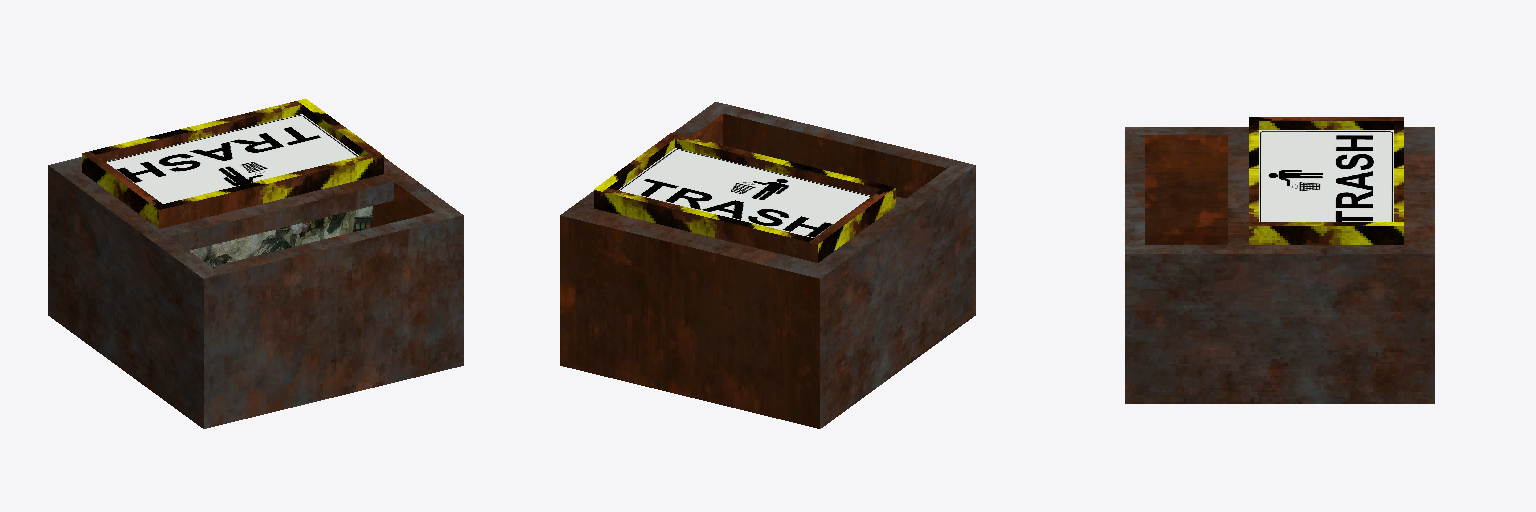
3 renders of one model, left to right at view 1: azimuth 30°, elevation 25°; view 2: azimuth 150°, elevation 25°; view 3: azimuth 270°, elevation 25°, orthographic.
Visible parts, largest first — view 1: 14, 9, 11, 88, 12, 10, 86, 13, 87, 81, 83; view 2: 9, 11, 88, 14, 87, 86, 81, 83, 10; view 3: 9, 10, 88, 11, 83, 12, 14, 81, 86, 87.
Part boxes in pixels (bbox=[...]): 14: bbox=[212, 212, 445, 405]; 9: bbox=[48, 157, 389, 375]; 11: bbox=[131, 222, 221, 428]; 88: bbox=[106, 114, 358, 203]; 12: bbox=[160, 174, 393, 250]; 10: bbox=[373, 162, 463, 369]; 86: bbox=[164, 154, 374, 226]; 13: bbox=[222, 351, 445, 424]; 87: bbox=[91, 101, 301, 161]; 81: bbox=[82, 151, 167, 228]; 83: bbox=[298, 99, 383, 175]; 9: bbox=[560, 191, 902, 428]; 11: bbox=[886, 161, 975, 367]; 88: bbox=[618, 148, 870, 237]; 14: bbox=[723, 106, 956, 197]; 87: bbox=[603, 188, 813, 260]; 86: bbox=[675, 135, 885, 195]; 81: bbox=[809, 185, 895, 262]; 83: bbox=[594, 133, 678, 210]; 10: bbox=[673, 102, 732, 144]; 9: bbox=[1270, 127, 1434, 403]; 10: bbox=[1125, 245, 1269, 403]; 88: bbox=[1259, 130, 1393, 221]; 11: bbox=[1125, 127, 1248, 244]; 83: bbox=[1249, 222, 1403, 244]; 12: bbox=[1228, 135, 1248, 244]; 14: bbox=[1125, 135, 1144, 244]; 81: bbox=[1249, 117, 1403, 129]; 86: bbox=[1249, 121, 1258, 221]; 87: bbox=[1394, 121, 1403, 221].
Size of the model in its own units: 29 by 18 by 30.
6 materials, 6 textured.